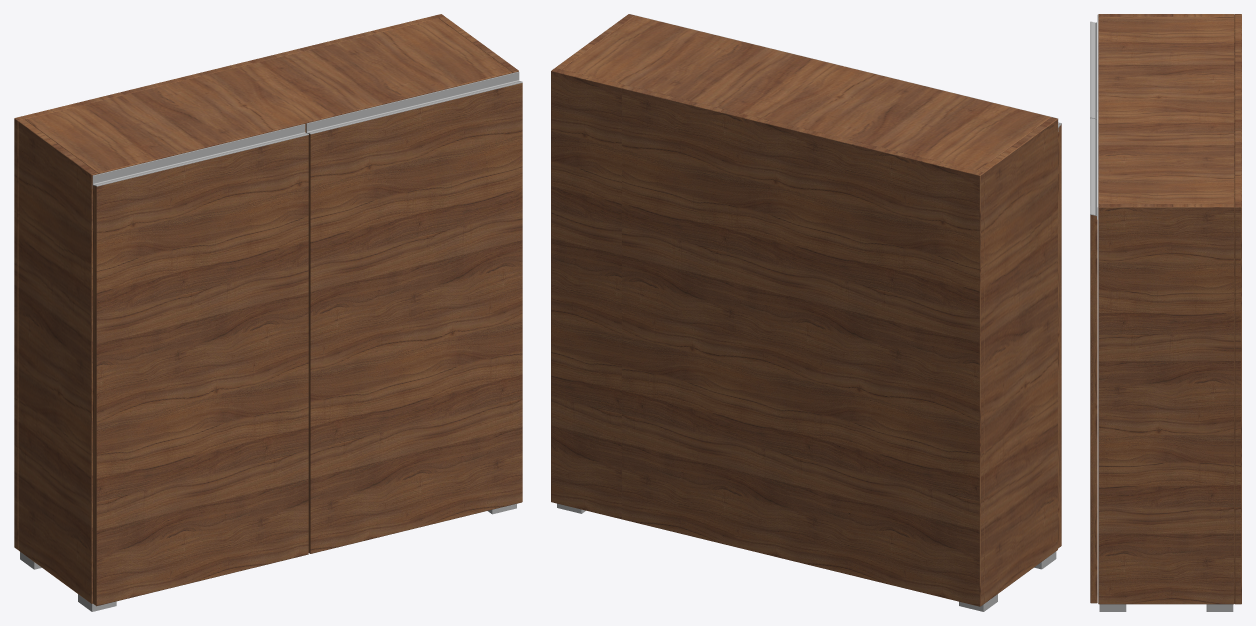
The model's file is hinged_doors_120x3OH_bothsides_file cabinet_FINAL.fbx.
3 views of the same model, side by side, from view 1: azimuth 30°, elevation 25°; view 2: azimuth 150°, elevation 25°; view 3: azimuth 270°, elevation 25° (orthographic). The views are drawn at different scales.
Visible parts, largest first — view 1: test:polySurface1, M1.I1; view 2: test:polySurface1; view 3: test:polySurface1, M1.I1, M67.I138.
Boxes of the visible parts, x1,y1,x2,y2 form: test:polySurface1: (14,14,522,606); M1.I1: (92,71,522,188); test:polySurface1: (551,14,1061,606); test:polySurface1: (1090,14,1241,604); M1.I1: (1090,14,1097,219); M67.I138: (1099,604,1233,611).
Size of the model in its own units: 120 by 117 by 39.88.
